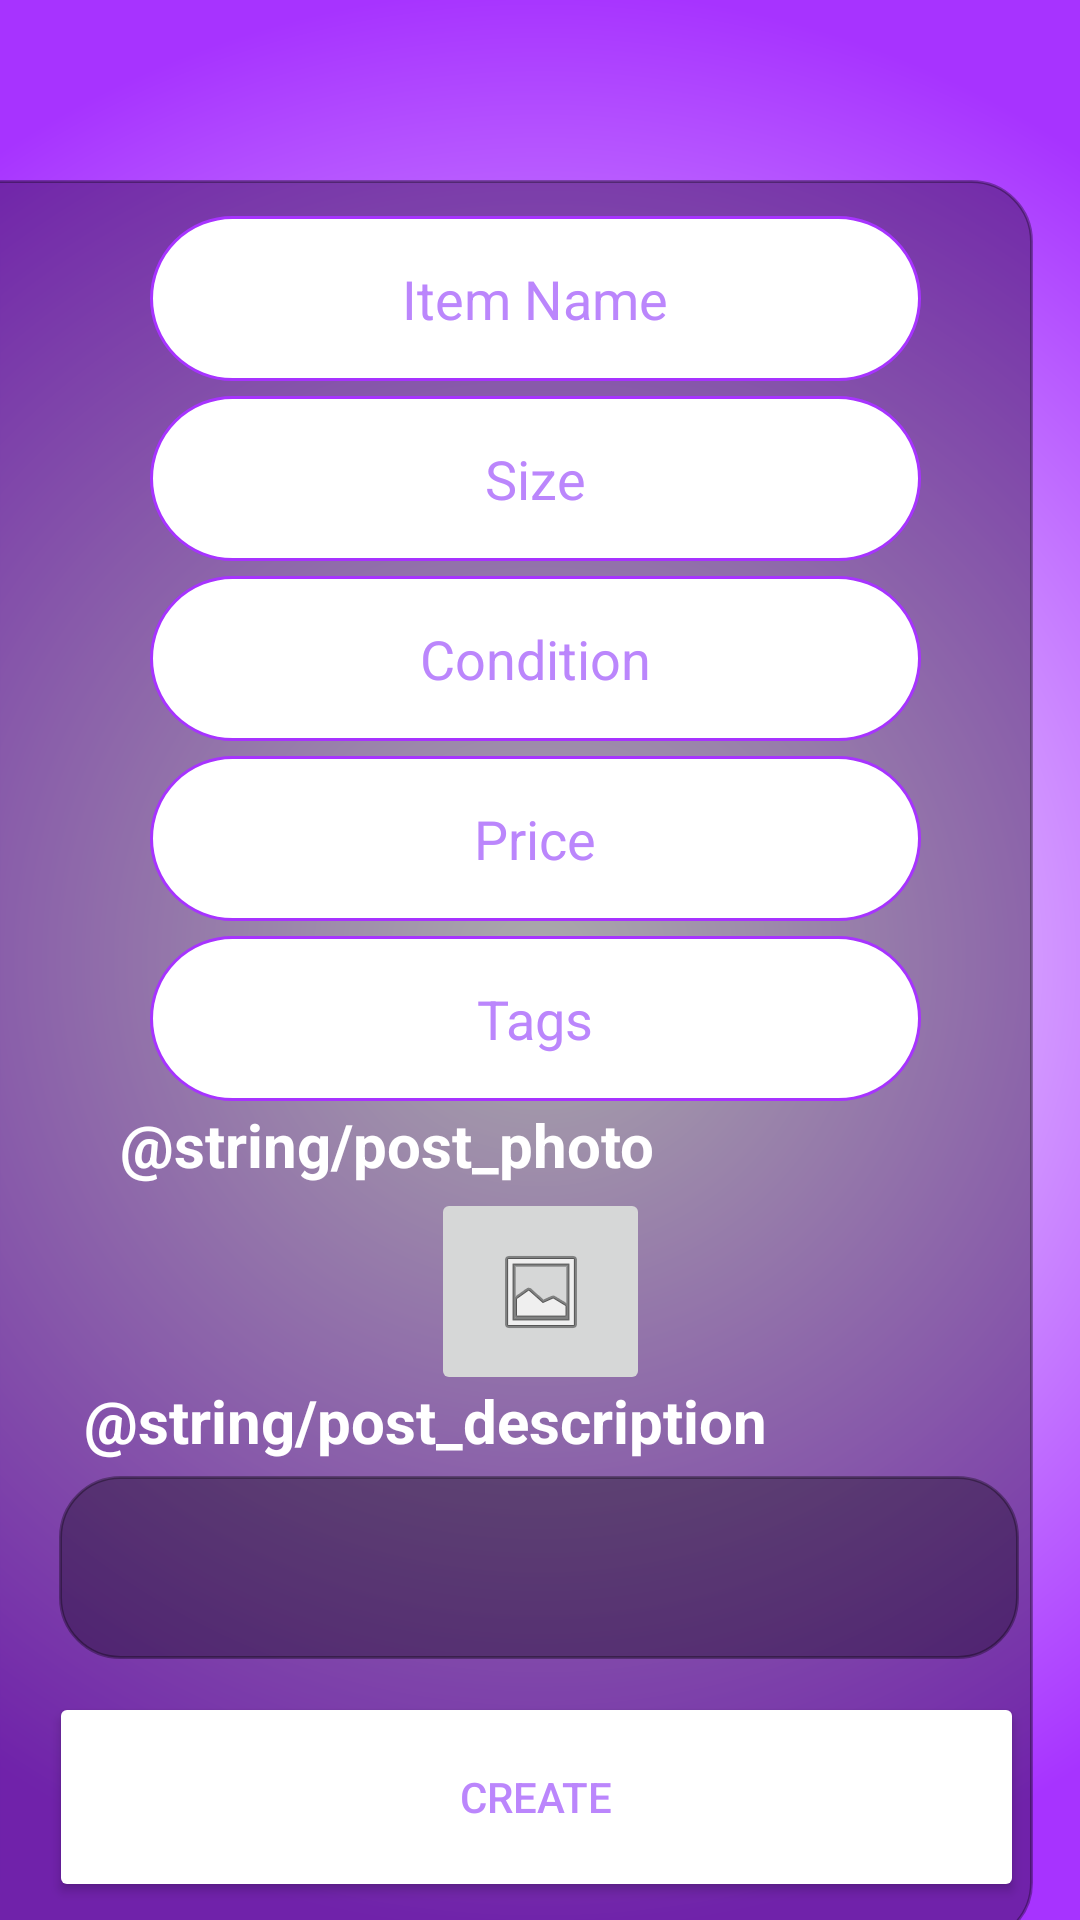

Where icons sit on this 1080*1920 app screen, as (x1, y1, x2, y2):
gallery: (431, 1188, 650, 1377)
